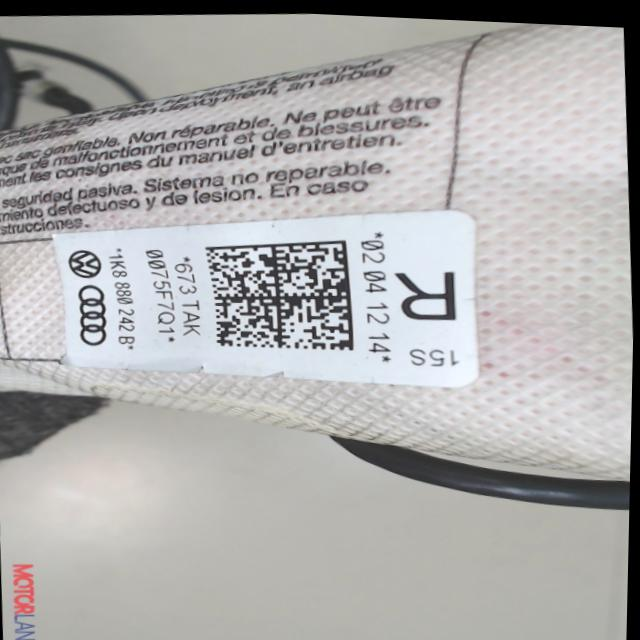datamatrix: (204, 233, 358, 356)
